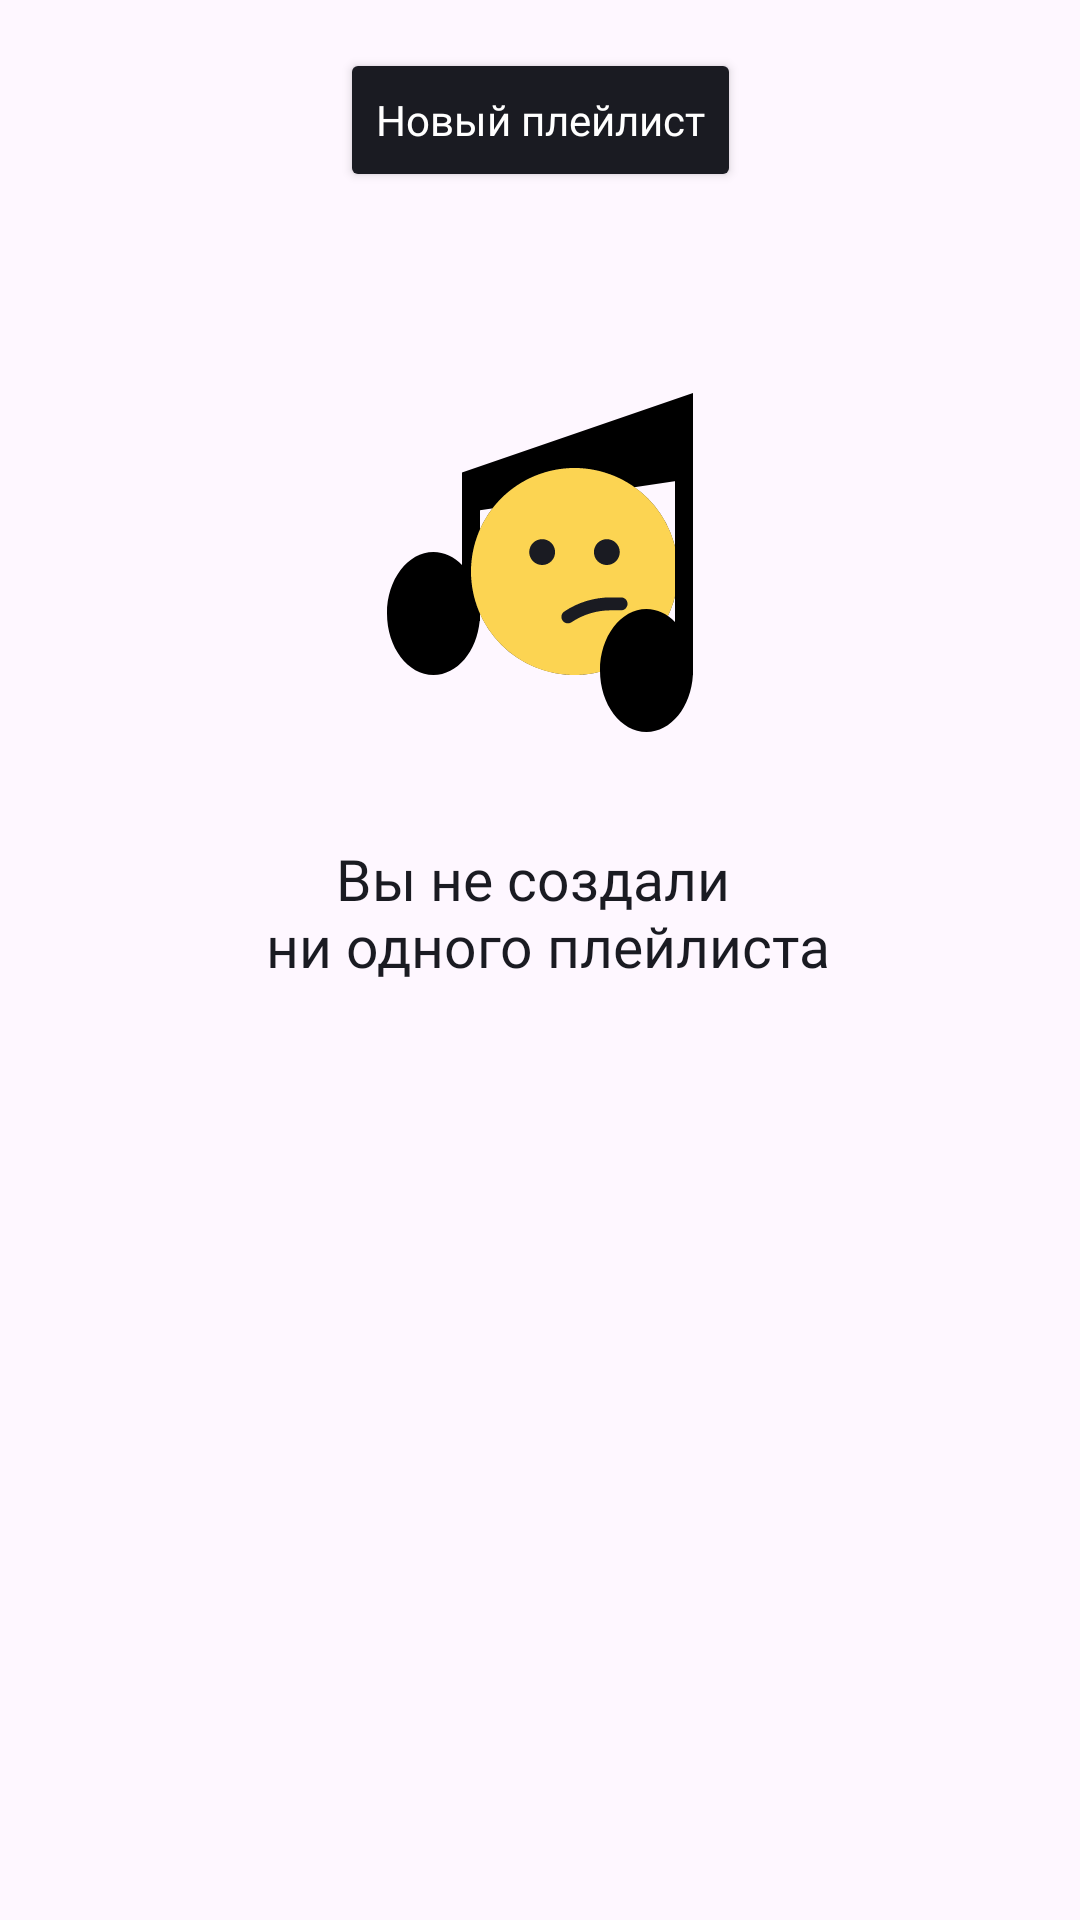

Icon click points for this 1080x1920 phone screenshot, format [x,y]:
nodatafound: [540,562]
